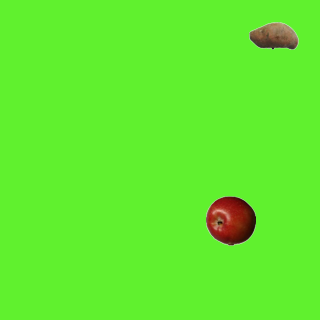Apple Braeburn: (205, 195, 255, 245)
Potato Sweet: (248, 10, 298, 60)
